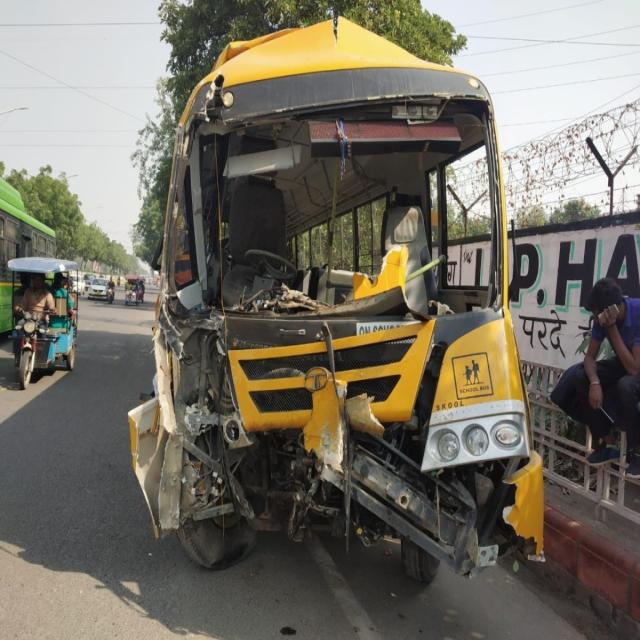accident: (129, 18, 544, 582)
autorickshaw: (8, 256, 79, 389)
